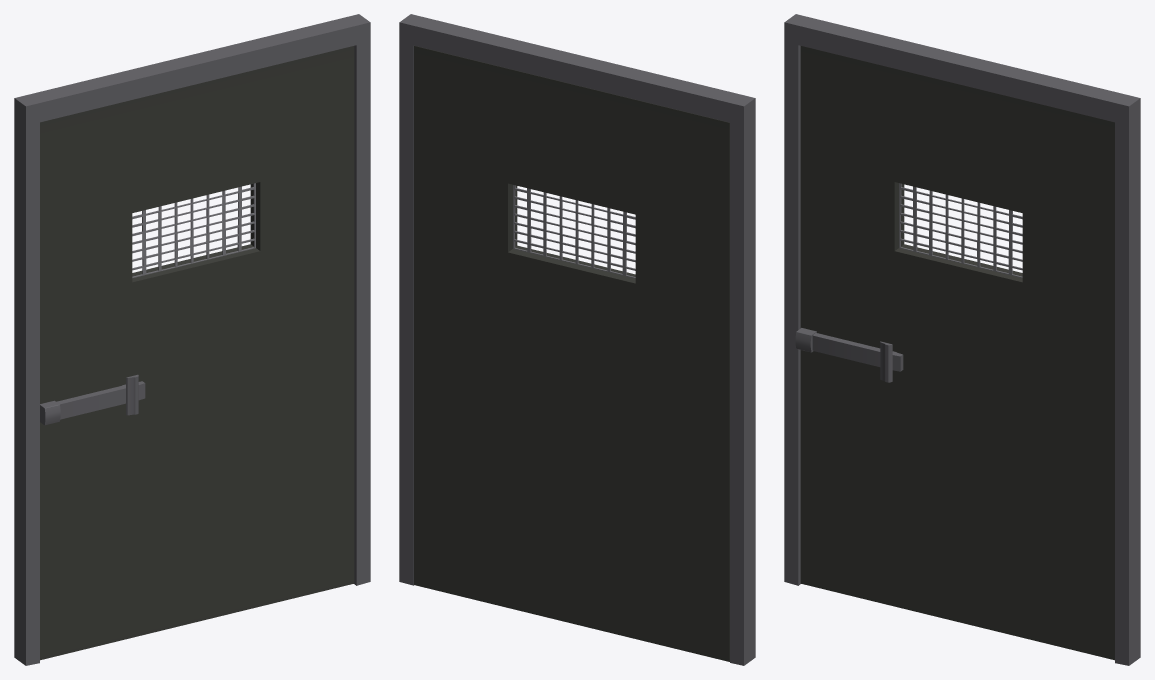
File: Hol_Kap.fbx
3 renders of one model, left to right at view 1: azimuth 30°, elevation 25°; view 2: azimuth 150°, elevation 25°; view 3: azimuth 330°, elevation 25°, orthographic.
Visible parts, largest first — view 1: Hol Kapı; view 2: Hol Kapı; view 3: Hol Kapı.
Boxes of the visible parts, left/top/right/bottom form: Hol Kapı: left=14, top=14, right=370, bottom=665; Hol Kapı: left=399, top=14, right=755, bottom=665; Hol Kapı: left=784, top=14, right=1140, bottom=665.
Bounding box in the file's own units: 1244 × 1932 × 98.08.
